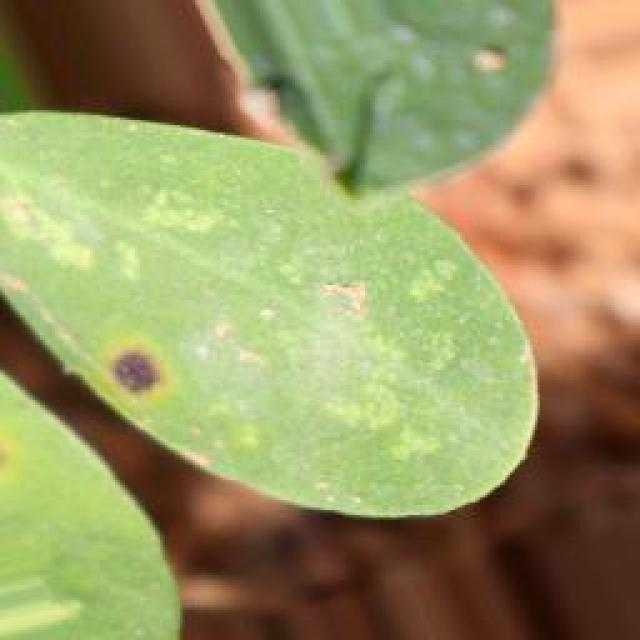Sigatoka: (72, 304, 196, 437)
